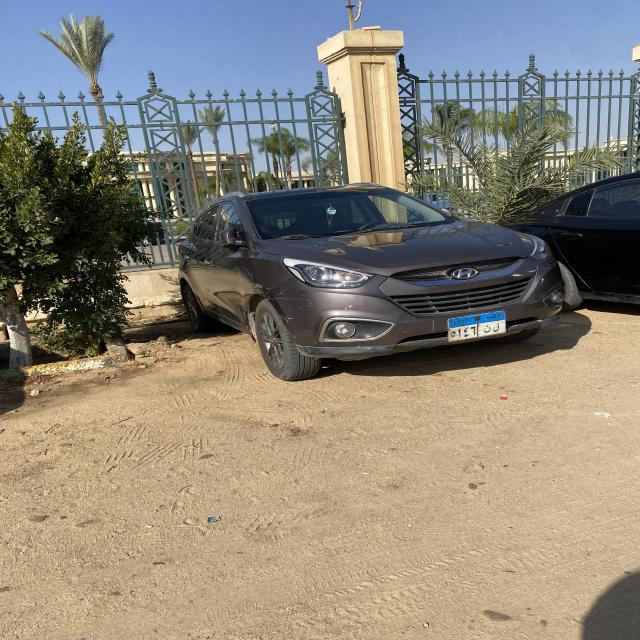License Plate: (448, 310, 506, 342)
